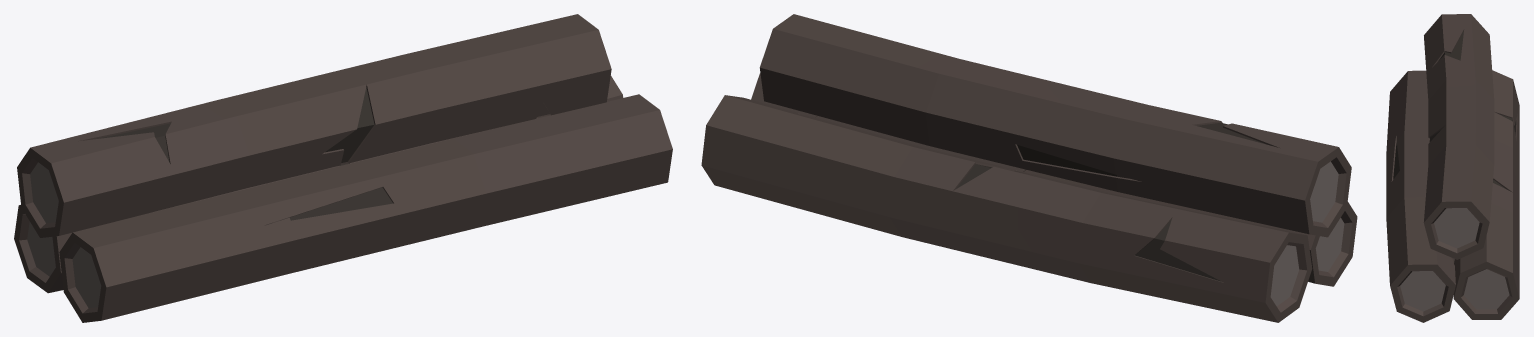
Rendered from props_87.glb.
3 views of the same model, side by side, from view 1: azimuth 30°, elevation 25°; view 2: azimuth 150°, elevation 25°; view 3: azimuth 270°, elevation 25° (orthographic). The views are drawn at different scales.
Parts seen in each view (by area): view 1: props_87; view 2: props_87; view 3: props_87.
Boxes of the visible parts, x1,y1,x2,y2 form: props_87: (14, 14, 672, 322); props_87: (701, 14, 1357, 322); props_87: (1386, 14, 1519, 322).
Bounding box in the file's own units: 1.96 × 0.5019 × 0.5518.
Materials: 1 (1 with a texture image).
